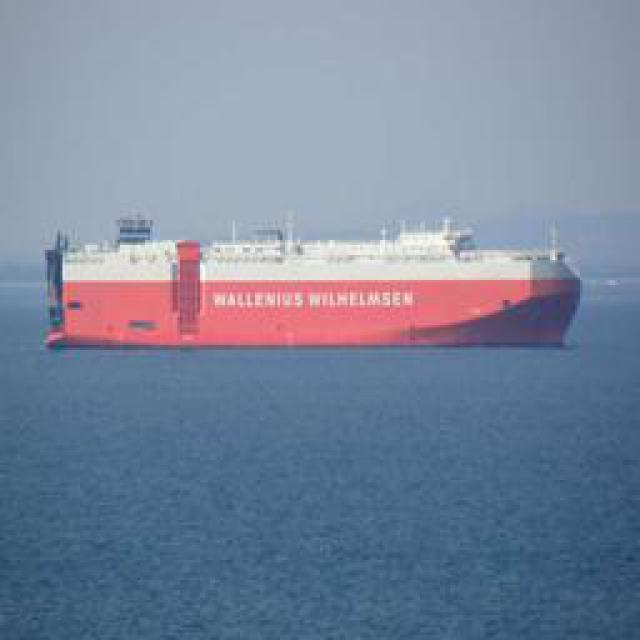Ship: (59, 227, 582, 347)
